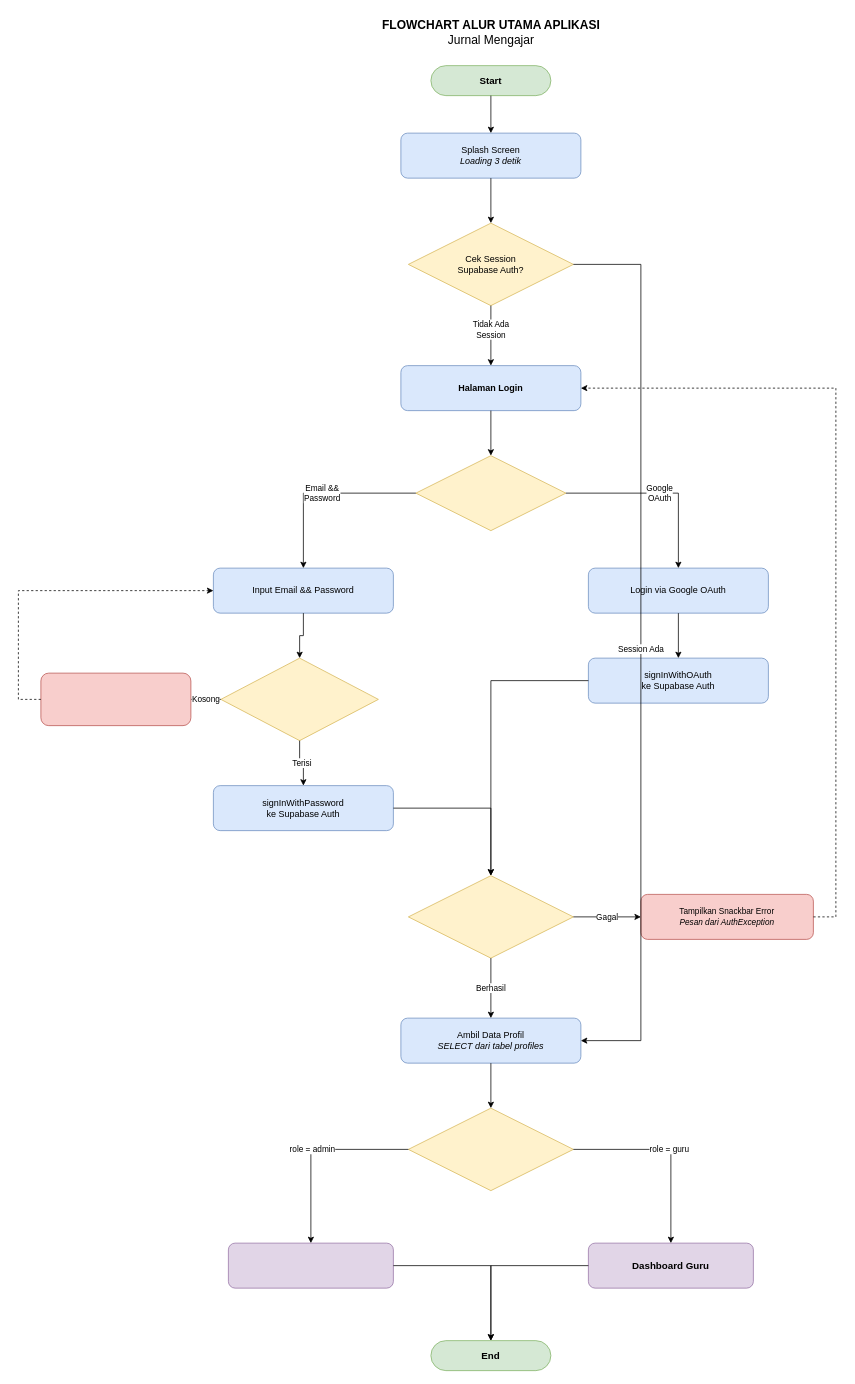
Some shapes in this 855 by 1384 pixel diagram are drawn without their labels. Each missing label, with the centre of its shape:
"Autentikasi Berhasil?" goes at (490,916).
"Cek Role User dari tabel profiles?" goes at (490,1149).
"Dashboard Admin" goes at (310,1265).
"Pilih Metode Login" goes at (490,493).
"Tampilkan Error: Email dan Password harus diisi" goes at (115,699).
"Validasi Input Email && Password?" goes at (299,699).
